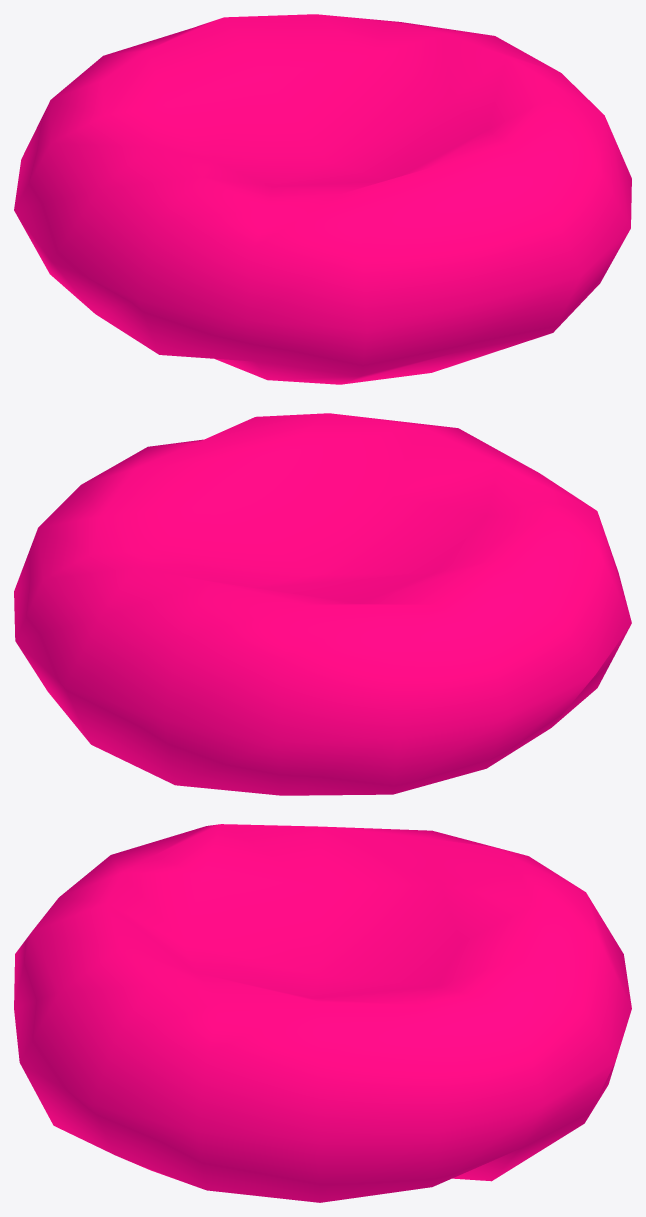
File: redBloodCell.fbx
3 views of the same model, one above another, from view 1: azimuth 30°, elevation 25°; view 2: azimuth 150°, elevation 25°; view 3: azimuth 270°, elevation 25° (orthographic). The views are drawn at different scales.
Parts seen in each view (by area): view 1: redBloodCell; view 2: redBloodCell; view 3: redBloodCell.
Boxes of the visible parts, x1,y1,x2,y2 form: redBloodCell: [14, 14, 631, 384]; redBloodCell: [14, 413, 631, 795]; redBloodCell: [14, 824, 631, 1202].
Bounding box in the file's own units: 5.14 × 1.9 × 5.02.
